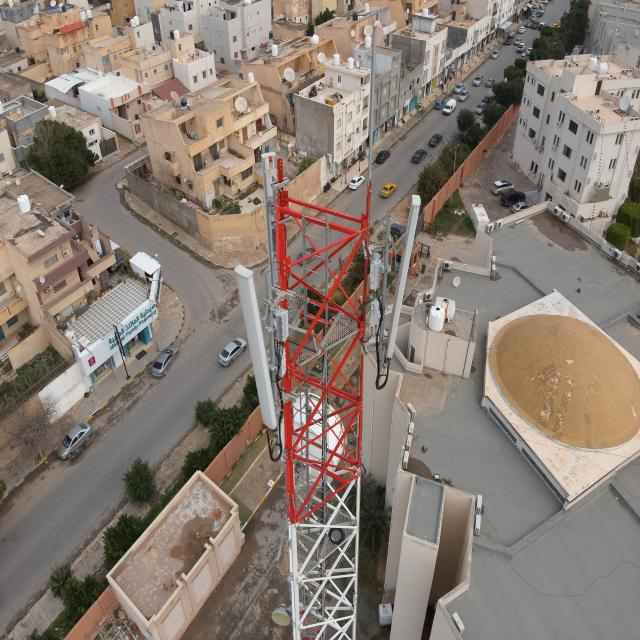Ground Based: (232, 28, 426, 640)
